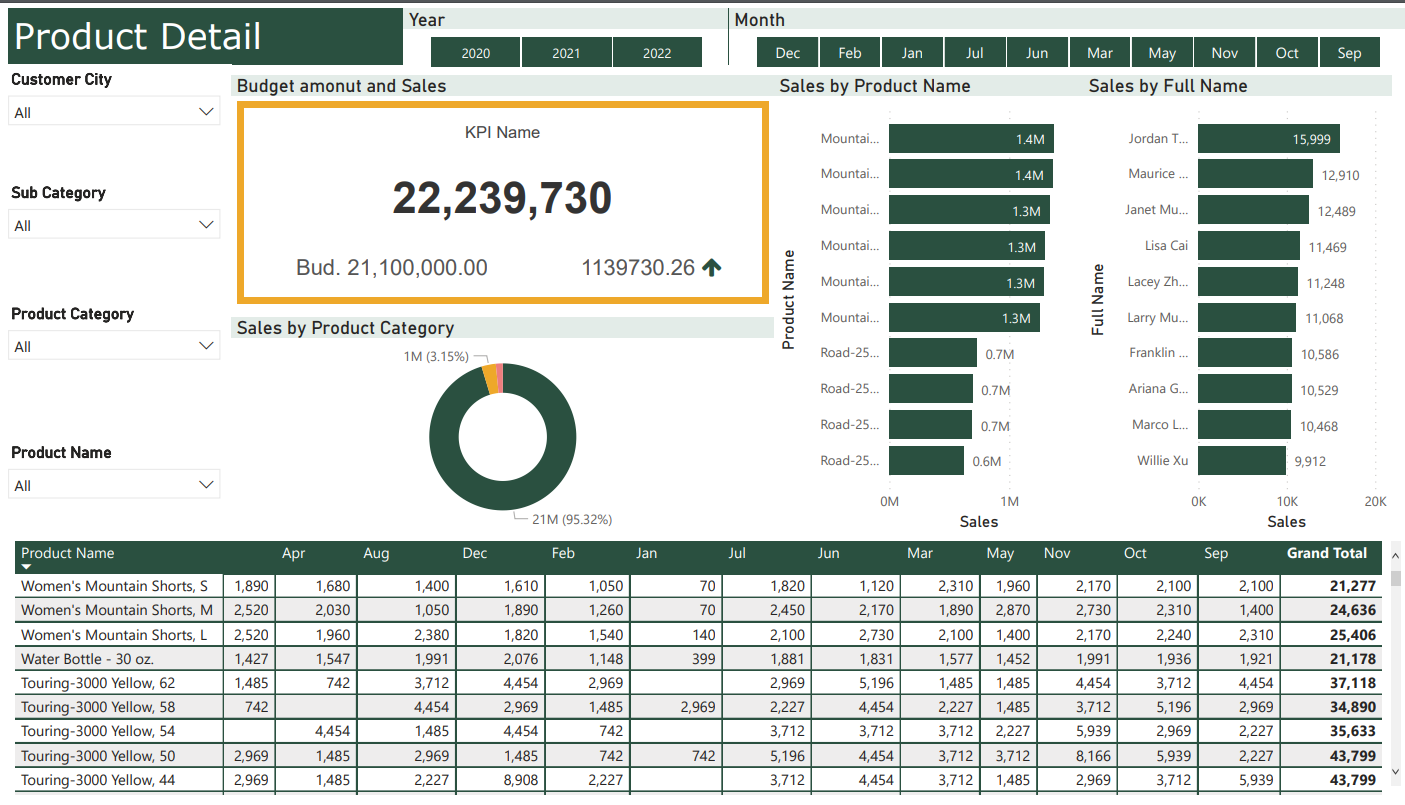

The page's visual inventory and layout, read from the dashboard file:
{"tool":"powerbi","page":{"name":"Product Details","canvas":[1280,720],"ordinal":2},"visuals":[{"type":"textbox","box":[9.6,0,1270.4,50.8],"z":0},{"type":"slicer","title":"Customer City","fields":{"Values":["DIM_Customers.Customer City"]},"box":[0,50.8,212.9,82.4],"z":1000},{"type":"slicer","title":"Customer City","fields":{"Values":["DIM_Products.Sub Category"]},"box":[0,153.8,212.9,57.7],"z":2000},{"type":"slicer","title":"Customer City","fields":{"Values":["DIM_Products.Product Category"]},"box":[0,263.7,212.9,57.7],"z":3000},{"type":"slicer","title":"Customer City","fields":{"Values":["DIM_Products.Product Name"]},"box":[0,390,212.9,57.7],"z":4000},{"type":"slicer","title":"Year","fields":{"Values":["DIM_Calendar.Year"]},"box":[369.4,0,295.3,60.4],"z":5000},{"type":"slicer","title":"Month","fields":{"Values":["DIM_Calendar.MonthShort"]},"box":[664.7,0,615.3,60.4],"z":6000},{"type":"BBED0A4D4D8D44CE93CF2DAFADEE466C","title":" Budget amonut and Sales ","fields":{"actual":["key mesures.Sales"],"target1":["key mesures.budget amonut"],"target2":["key mesures.Sales - Budget"]},"box":[212.9,60.4,493,212.9],"z":7000},{"type":"donutChart","fields":{"Y":["key mesures.Sales"],"Category":["DIM_Products.Product Category"]},"box":[212.9,280.2,493,199.1],"z":8000},{"type":"barChart","fields":{"Y":["key mesures.Sales"],"Category":["DIM_Products.Product Name"]},"box":[705.9,60.4,281.5,418.9],"z":9000},{"type":"barChart","fields":{"Y":["key mesures.Sales"],"Category":["DIM_Customers.Full Name"]},"box":[987.5,60.4,280.2,418.9],"z":10000},{"type":"pivotTable","fields":{"Columns":["DIM_Calendar.MonthShort"],"Rows":["DIM_Products.Product Name"],"Values":["key mesures.Sales"]},"box":[12.4,479.3,1267.6,240.3],"z":11000}]}

Visuals, with their boxes in screenshot pixels (x1, y1, x2, y2), scaled from the page's 1280x720 canvas onto the 1405x805 screenshot:
textbox: left=11, top=0, right=1404, bottom=57
"Customer City" slicer: left=0, top=57, right=234, bottom=149
"Customer City" slicer: left=0, top=172, right=234, bottom=236
"Customer City" slicer: left=0, top=295, right=234, bottom=359
"Customer City" slicer: left=0, top=436, right=234, bottom=501
"Year" slicer: left=405, top=0, right=730, bottom=68
"Month" slicer: left=730, top=0, right=1404, bottom=68
" Budget amonut and Sales " BBED0A4D4D8D44CE93CF2DAFADEE466C: left=234, top=68, right=775, bottom=306
donutChart - key mesures.Sales x DIM_Products.Product Category: left=234, top=313, right=775, bottom=536
barChart - key mesures.Sales x DIM_Products.Product Name: left=775, top=68, right=1084, bottom=536
barChart - key mesures.Sales x DIM_Customers.Full Name: left=1084, top=68, right=1391, bottom=536
pivotTable - DIM_Calendar.MonthShort x DIM_Products.Product Name: left=14, top=536, right=1404, bottom=804
